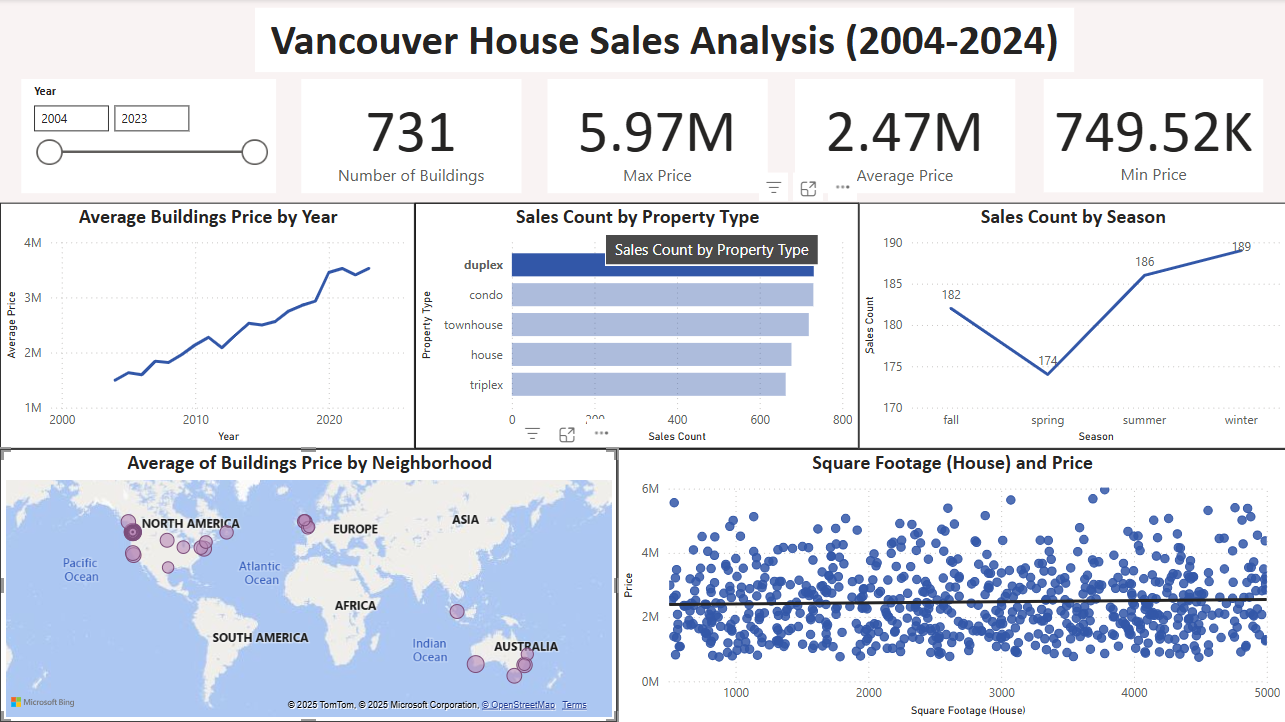

The dashboard page shown, as its layout file describes it:
{"tool":"powerbi","page":{"name":"Page 1","canvas":[1280,720],"ordinal":0},"visuals":[{"type":"card","fields":{"Values":["CountNonNull(anaconda_projects_f8326e84-f14b-4466-9a13-133429dca842_cleaned_vancouver_housing.Neighborhood)"]},"box":[299.8,79.6,218.9,113.2],"z":0},{"type":"card","fields":{"Values":["Avg(anaconda_projects_f8326e84-f14b-4466-9a13-133429dca842_cleaned_vancouver_housing.Market Price)"]},"box":[791.2,79.6,218.9,113.2],"z":1000},{"type":"card","fields":{"Values":["Max(anaconda_projects_f8326e84-f14b-4466-9a13-133429dca842_cleaned_vancouver_housing.Market Price)"]},"box":[544.9,79.6,218.9,113.2],"z":2000},{"type":"card","fields":{"Values":["Min(anaconda_projects_f8326e84-f14b-4466-9a13-133429dca842_cleaned_vancouver_housing.Market Price)"]},"box":[1039,80,218.8,112.5],"z":3000},{"type":"lineChart","title":"Average Buildings Price by Year","fields":{"Y":["Avg(anaconda_projects_f8326e84-f14b-4466-9a13-133429dca842_cleaned_vancouver_housing.Market Price)"],"Category":["anaconda_projects_f8326e84-f14b-4466-9a13-133429dca842_cleaned_vancouver_housing.Year"]},"box":[0,202.8,413,245.1],"z":4000},{"type":"clusteredBarChart","title":"Sales Count by Property Type","fields":{"Category":["anaconda_projects_f8326e84-f14b-4466-9a13-133429dca842_cleaned_vancouver_housing.Property Type"],"Y":["CountNonNull(anaconda_projects_f8326e84-f14b-4466-9a13-133429dca842_cleaned_vancouver_housing.Market Price)"]},"box":[413,202.8,441.6,245.1],"z":5000},{"type":"map","title":"Average of Buildings Price by Neighborhood","fields":{"Category":["anaconda_projects_f8326e84-f14b-4466-9a13-133429dca842_cleaned_vancouver_housing.Neighborhood"],"Size":["Avg(anaconda_projects_f8326e84-f14b-4466-9a13-133429dca842_cleaned_vancouver_housing.Market Price)"]},"box":[0,447.6,615.1,272.6],"z":6000},{"type":"lineChart","title":"Sales Count by Season","fields":{"Category":["anaconda_projects_f8326e84-f14b-4466-9a13-133429dca842_cleaned_vancouver_housing.Season"],"Y":["CountNonNull(anaconda_projects_f8326e84-f14b-4466-9a13-133429dca842_cleaned_vancouver_housing.Market Price)"]},"box":[854.6,202.8,425.4,245.1],"z":7000},{"type":"slicer","fields":{"Values":["anaconda_projects_f8326e84-f14b-4466-9a13-133429dca842_cleaned_vancouver_housing.Year"]},"box":[21.1,79.6,253.8,113.2],"z":8000},{"type":"textbox","box":[253.8,8.8,815.2,63.8],"z":9000},{"type":"scatterChart","fields":{"X":["anaconda_projects_f8326e84-f14b-4466-9a13-133429dca842_cleaned_vancouver_housing.Square Footage (House)"],"Y":["anaconda_projects_f8326e84-f14b-4466-9a13-133429dca842_cleaned_vancouver_housing.Market Price"]},"box":[614.5,447.8,665.5,272.4],"z":10000}]}

Visuals, with their boxes in screenshot pixels (x1, y1, x2, y2), scaled from the page's 1280x720 canvas onto the 1285x722 screenshot:
card - CountNonNull(anaconda_projects_f8326e84-f14b-4466-9a13-133429dca842_cleaned_vancouver_housing.Neighborhood): (301,80,521,193)
card - Avg(anaconda_projects_f8326e84-f14b-4466-9a13-133429dca842_cleaned_vancouver_housing.Market Price): (794,80,1014,193)
card - Max(anaconda_projects_f8326e84-f14b-4466-9a13-133429dca842_cleaned_vancouver_housing.Market Price): (547,80,767,193)
card - Min(anaconda_projects_f8326e84-f14b-4466-9a13-133429dca842_cleaned_vancouver_housing.Market Price): (1043,80,1263,193)
"Average Buildings Price by Year" lineChart: (0,203,415,449)
"Sales Count by Property Type" clusteredBarChart: (415,203,858,449)
"Average of Buildings Price by Neighborhood" map: (0,449,618,721)
"Sales Count by Season" lineChart: (858,203,1284,449)
slicer - anaconda_projects_f8326e84-f14b-4466-9a13-133429dca842_cleaned_vancouver_housing.Year: (21,80,276,193)
textbox: (255,9,1073,73)
scatterChart - anaconda_projects_f8326e84-f14b-4466-9a13-133429dca842_cleaned_vancouver_housing.Square Footage (House) x anaconda_projects_f8326e84-f14b-4466-9a13-133429dca842_cleaned_vancouver_housing.Market Price: (617,449,1284,721)
